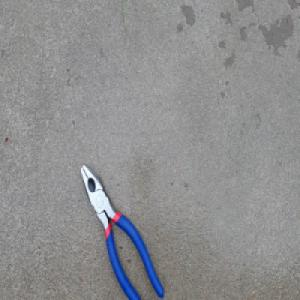Pliers: (79, 162, 164, 300)
